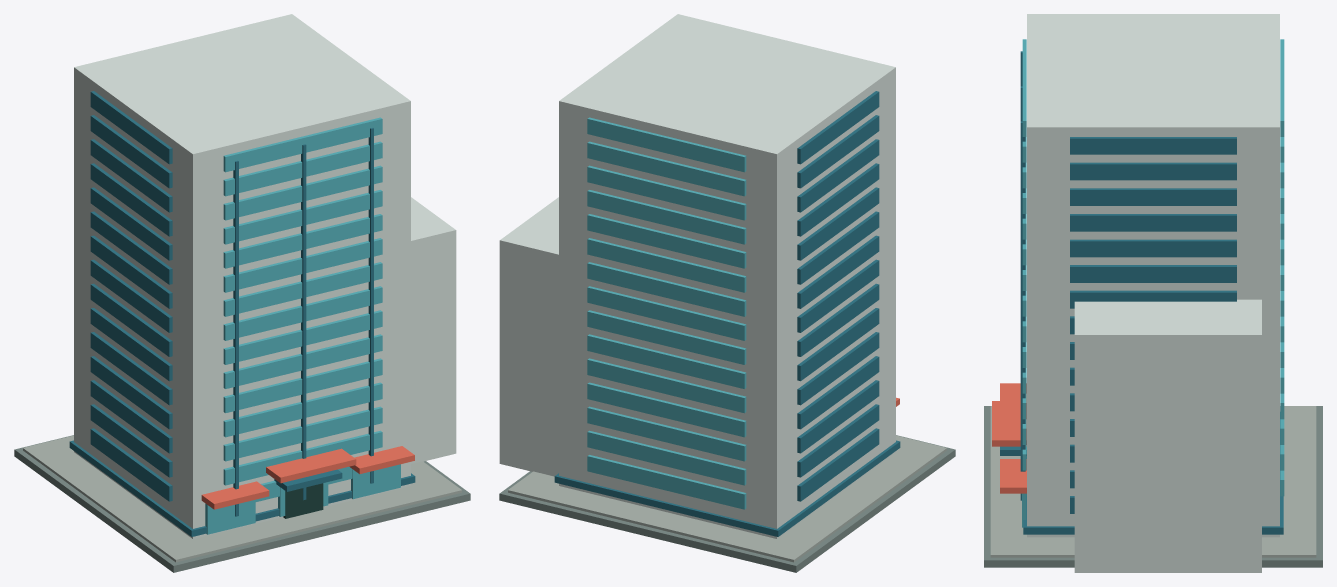
The model's file is office_lv3.glb.
3 renders of one model, left to right at view 1: azimuth 30°, elevation 25°; view 2: azimuth 150°, elevation 25°; view 3: azimuth 270°, elevation 25°, orthographic. The views are drawn at different scales.
Visible parts, largest first — view 1: white, glass, glassDark, concrete, pavement, coral, dark; view 2: white, glass, glassDark, concrete, pavement; view 3: white, glassDark, concrete, glass, pavement, coral.
Part boxes in pixels (<box>): white: <box>74,14,456,538</box>; glass: <box>205,117,400,534</box>; glassDark: <box>69,91,415,536</box>; concrete: <box>23,435,461,562</box>; pavement: <box>14,435,470,572</box>; coral: <box>201,446,414,509</box>; dark: <box>283,483,323,518</box>; white: <box>499,14,895,538</box>; glass: <box>587,117,746,509</box>; glassDark: <box>554,91,900,536</box>; concrete: <box>508,435,946,562</box>; pavement: <box>499,435,955,572</box>; white: <box>1027,14,1279,572</box>; glassDark: <box>1000,51,1283,534</box>; concrete: <box>990,406,1316,557</box>; glass: <box>1022,39,1284,527</box>; pavement: <box>984,406,1322,567</box>; coral: <box>992,383,1026,493</box>.
Bounding box in the file's own units: 10.73 × 12.44 × 9.1.
